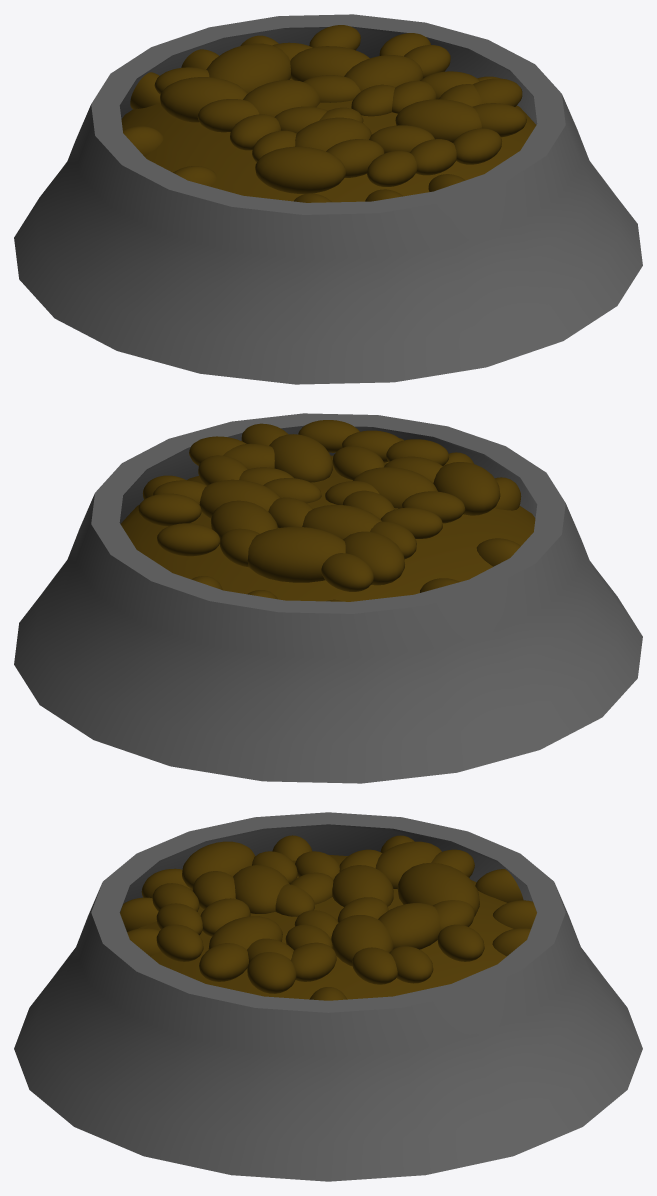
Rendered from Dog Bowl.fbx.
3 renders of one model, top to bottom at view 1: azimuth 30°, elevation 25°; view 2: azimuth 150°, elevation 25°; view 3: azimuth 270°, elevation 25°, orthographic.
Parts seen in each view (by area): view 1: polySurface1, pSphere1, pSphere15, pSphere39, pSphere14, pSphere16, pSphere17, pSphere13, pSphere12, pSphere11, pSphere41, pSphere33 (+21 smaller); view 2: polySurface1, pSphere1, pSphere39, pSphere15, pSphere14, pSphere16, pSphere11, pSphere12, pSphere13, pSphere24, pSphere17, pSphere40 (+22 smaller); view 3: polySurface1, pSphere1, pSphere39, pSphere17, pSphere13, pSphere15, pSphere11, pSphere12, pSphere36, pSphere16, pSphere14, pSphere29 (+27 smaller).
Boxes of the visible parts, bbox=[...] form: polySurface1: bbox=[14, 14, 642, 384]; pSphere1: bbox=[121, 78, 536, 202]; pSphere15: bbox=[255, 146, 345, 193]; pSphere39: bbox=[206, 43, 290, 93]; pSphere14: bbox=[395, 99, 481, 142]; pSphere16: bbox=[160, 77, 247, 122]; pSphere17: bbox=[290, 46, 369, 81]; pSphere13: bbox=[344, 55, 422, 91]; pSphere12: bbox=[243, 80, 320, 117]; pSphere11: bbox=[295, 117, 371, 151]; pSphere41: bbox=[367, 151, 417, 186]; pSphere33: bbox=[197, 99, 259, 132]; polySurface1: bbox=[14, 413, 642, 783]; pSphere1: bbox=[120, 455, 535, 601]; pSphere39: bbox=[247, 526, 345, 582]; pSphere15: bbox=[433, 462, 500, 515]; pSphere14: bbox=[269, 434, 332, 482]; pSphere16: bbox=[343, 531, 404, 585]; pSphere11: bbox=[353, 467, 437, 508]; pSphere12: bbox=[302, 504, 381, 539]; pSphere13: bbox=[199, 479, 280, 518]; pSphere24: bbox=[157, 523, 220, 556]; pSphere17: bbox=[211, 500, 277, 539]; pSphere40: bbox=[138, 493, 201, 526]; polySurface1: bbox=[14, 812, 642, 1181]; pSphere1: bbox=[138, 855, 512, 999]; pSphere39: bbox=[397, 862, 479, 915]; pSphere17: bbox=[378, 903, 440, 949]; pSphere13: bbox=[331, 915, 393, 966]; pSphere15: bbox=[182, 841, 254, 888]; pSphere11: bbox=[233, 865, 289, 913]; pSphere12: bbox=[332, 865, 393, 906]; pSphere36: bbox=[247, 952, 296, 993]; pSphere16: bbox=[375, 841, 441, 888]; pSphere14: bbox=[208, 916, 282, 949]; pSphere29: bbox=[199, 943, 248, 981].
Bounding box in the file's own units: 12.04 × 3.48 × 12.04.
